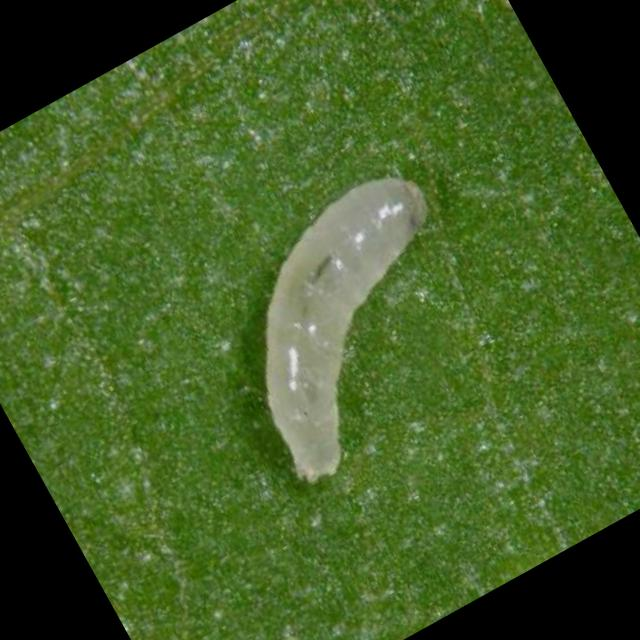whorl-maggot: (184, 153, 525, 494)
